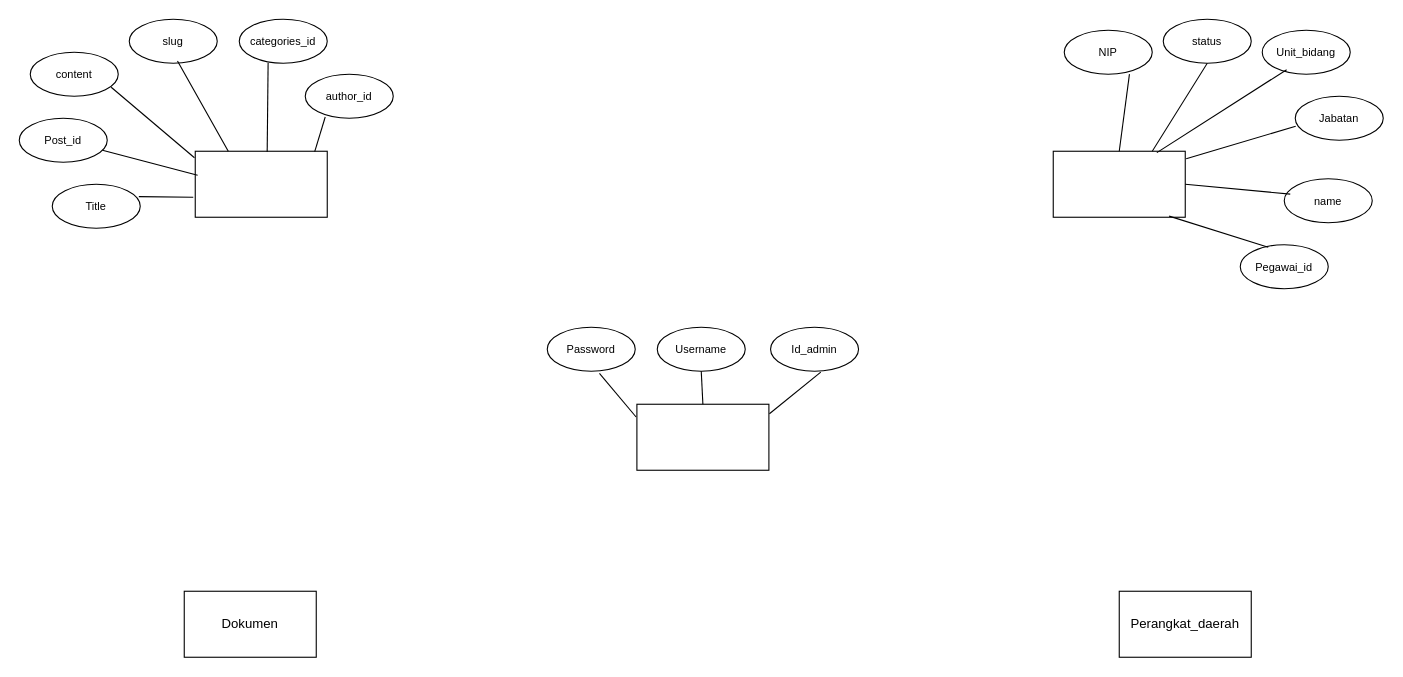
Some shapes in this 1403 by 677 pixel diagram are drawn without their labels. Here are the shapes that lost their labels. From the top down, the box of each, then its label:
(194, 150, 327, 217): Berita
(1052, 150, 1185, 217): Pegawai
(636, 403, 769, 470): Admin
